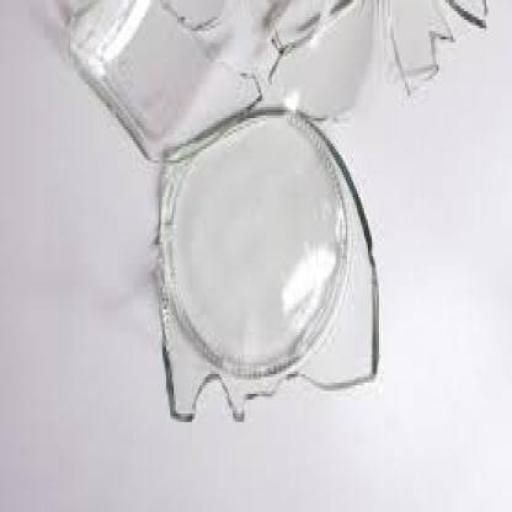glass: (152, 113, 377, 425), (65, 3, 259, 166), (266, 3, 388, 126), (388, 2, 451, 98), (448, 3, 484, 34)
